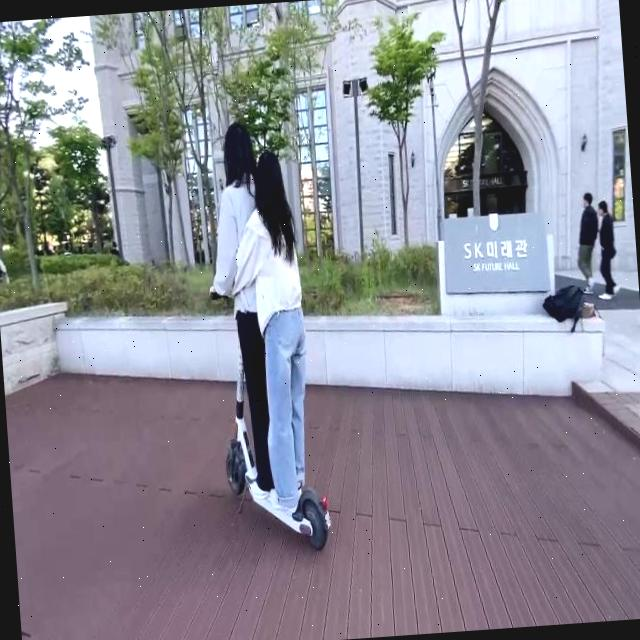bare_head: (213, 119, 261, 187), (246, 151, 295, 202)
human: (259, 150, 309, 506), (230, 119, 268, 493)
kickboard: (225, 433, 352, 551)
